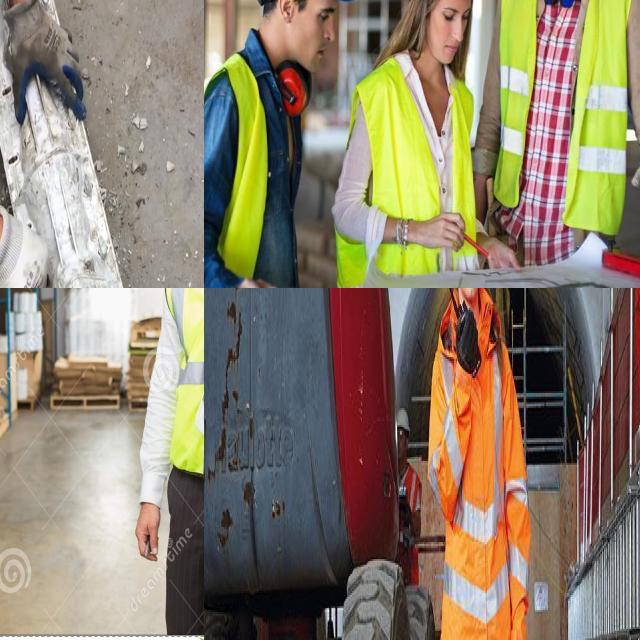face_nomask: (405, 0, 471, 73), (283, 0, 339, 86)
hand_glove: (4, 0, 89, 123), (0, 191, 48, 288), (449, 302, 481, 383)
hand_noglove: (130, 501, 171, 571), (428, 203, 469, 256), (227, 270, 280, 288)
head_helmet: (396, 410, 409, 434)
person: (466, 0, 640, 251), (360, 0, 506, 288), (204, 0, 349, 288), (432, 288, 528, 640), (129, 288, 204, 630), (396, 412, 423, 591)
vest: (431, 298, 531, 640), (506, 0, 640, 251), (367, 65, 488, 288), (204, 62, 306, 288), (159, 288, 204, 483)
